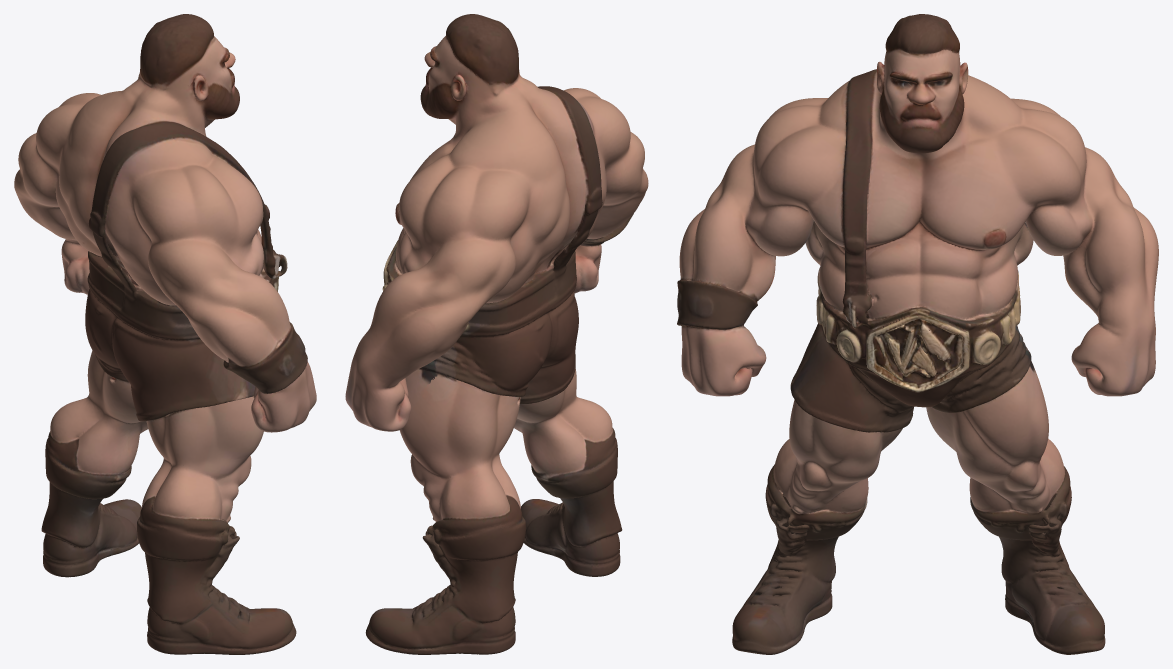
Rendered from fighter_wrestler.glb.
3 views of the same model, side by side, from view 1: azimuth 30°, elevation 25°; view 2: azimuth 150°, elevation 25°; view 3: azimuth 270°, elevation 25° (orthographic). The views are drawn at different scales.
Visible parts, largest first — view 1: tripo_node_7977874b-9f26-459e-8be4-b98a48ece3d5; view 2: tripo_node_7977874b-9f26-459e-8be4-b98a48ece3d5; view 3: tripo_node_7977874b-9f26-459e-8be4-b98a48ece3d5.
Part boxes in pixels (x1,y1,x2,y2): tripo_node_7977874b-9f26-459e-8be4-b98a48ece3d5: [14, 14, 316, 654]; tripo_node_7977874b-9f26-459e-8be4-b98a48ece3d5: [345, 14, 648, 654]; tripo_node_7977874b-9f26-459e-8be4-b98a48ece3d5: [677, 14, 1158, 654].
Size of the model in its own units: 0.3315 by 1 by 0.7003.
1 material, 1 textured.
